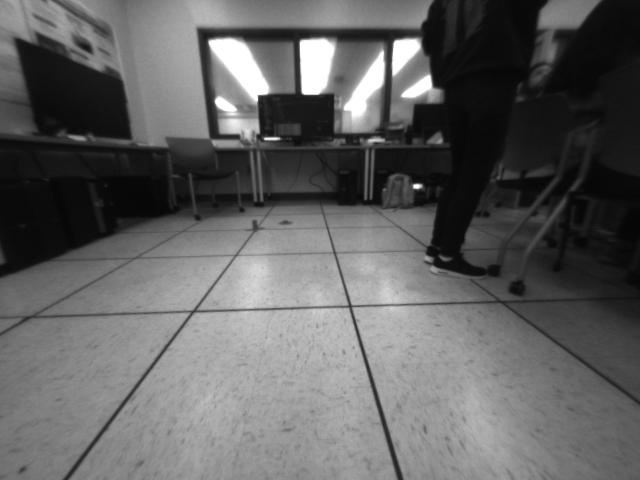X: (244, 219, 266, 233)
